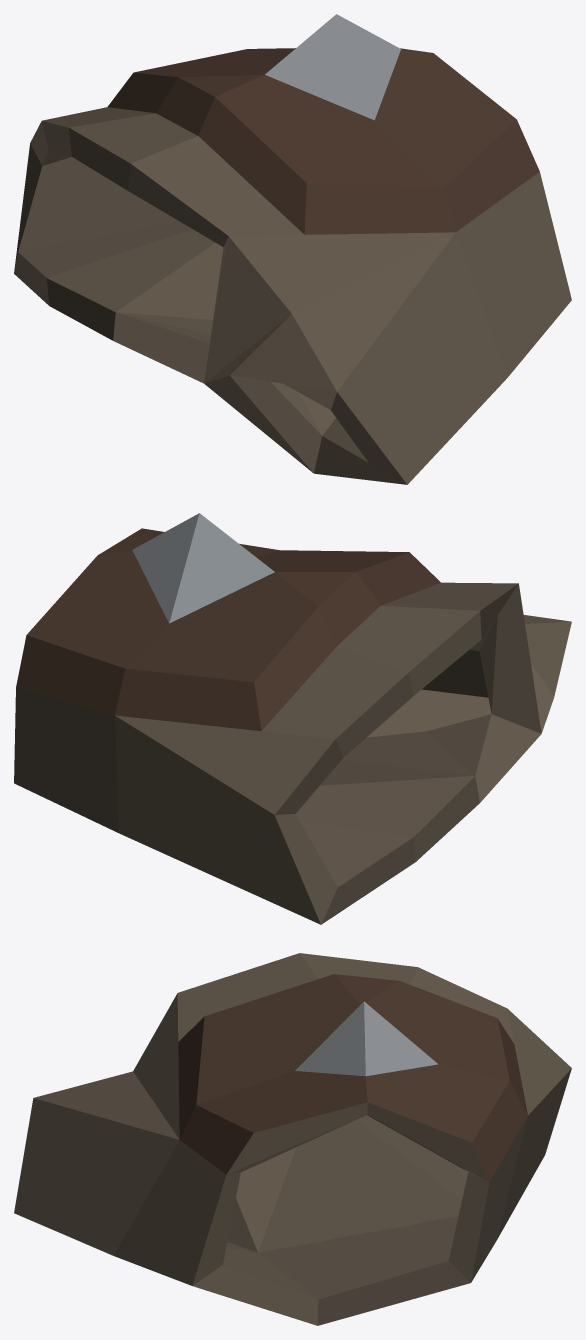
File: Chr_HandRight_Female_02_Drop.fbx
The picture shows the model from 3 angles, top to bottom: view 1: azimuth 30°, elevation 25°; view 2: azimuth 150°, elevation 25°; view 3: azimuth 270°, elevation 25°; orthographic projection. The views are drawn at different scales.
Visible parts, largest first — view 1: Chr_HandRight_Female_02_Static; view 2: Chr_HandRight_Female_02_Static; view 3: Chr_HandRight_Female_02_Static.
Part boxes in pixels (<box>): Chr_HandRight_Female_02_Static: <box>14,14,571,484</box>; Chr_HandRight_Female_02_Static: <box>14,513,571,924</box>; Chr_HandRight_Female_02_Static: <box>14,953,571,1325</box>.
Bounding box in the file's own units: 1158 × 956 × 1600.
